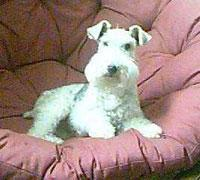wire-haired_fox_terrier: (21, 18, 163, 144)
